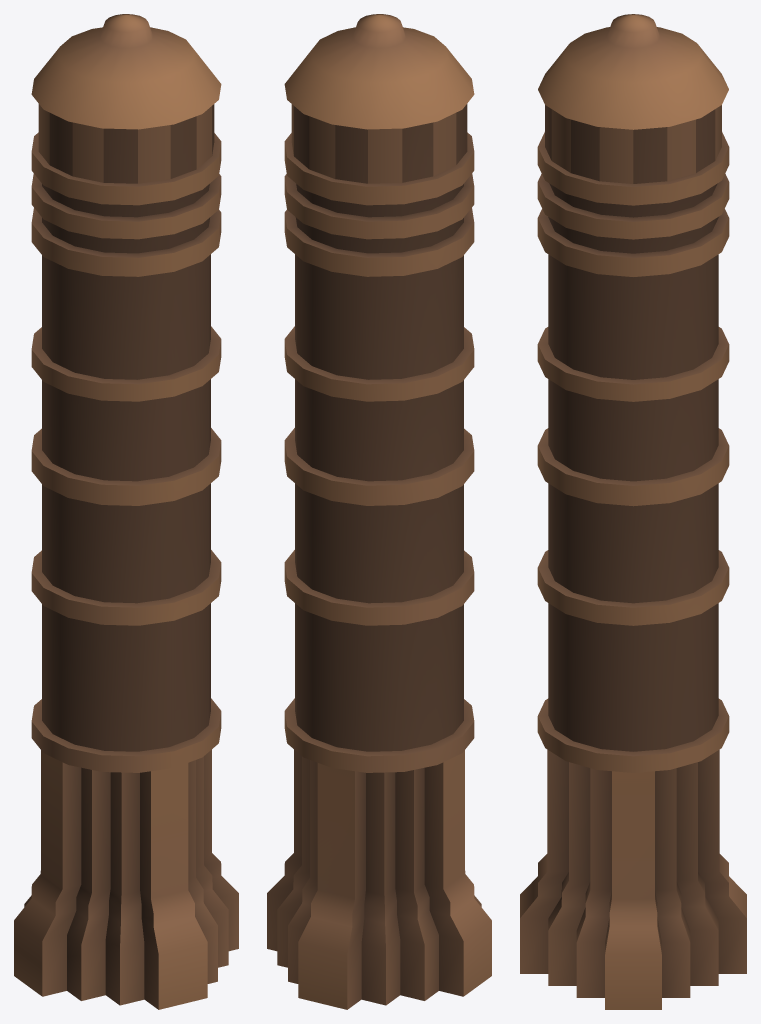
Rendered from buildings-ruins-templeruins_v7.glb.
The picture shows the model from 3 angles, left to right: view 1: azimuth 30°, elevation 25°; view 2: azimuth 150°, elevation 25°; view 3: azimuth 270°, elevation 25°; orthographic projection.
Parts seen in each view (by area): view 1: TempleRuins_v7; view 2: TempleRuins_v7; view 3: TempleRuins_v7.
Part boxes in pixels (x1,y1,x2,y2): TempleRuins_v7: (14,14,238,1009); TempleRuins_v7: (267,14,491,1009); TempleRuins_v7: (520,14,746,1009).
Size of the model in its own units: 3.66 by 16.85 by 3.66.
